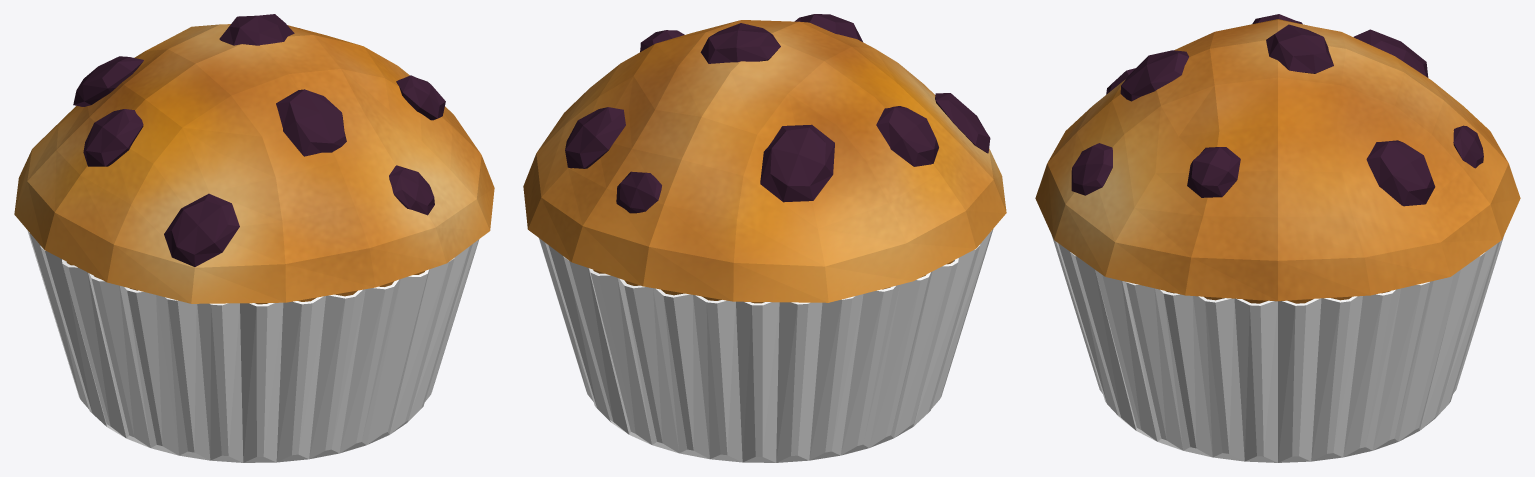
The model's file is blueberry-muffin.glb.
3 renders of one model, left to right at view 1: azimuth 30°, elevation 25°; view 2: azimuth 150°, elevation 25°; view 3: azimuth 270°, elevation 25°, orthographic.
Parts seen in each view (by area): view 1: node-0; view 2: node-0; view 3: node-0.
Boxes of the visible parts, x1=… form: node-0: x1=14, y1=14, x2=494, y2=462; node-0: x1=523, y1=14, x2=1006, y2=462; node-0: x1=1035, y1=14, x2=1520, y2=462.
Bounding box in the file's own units: 2.77 × 2.29 × 2.77.
Materials: 3 (1 with a texture image).
